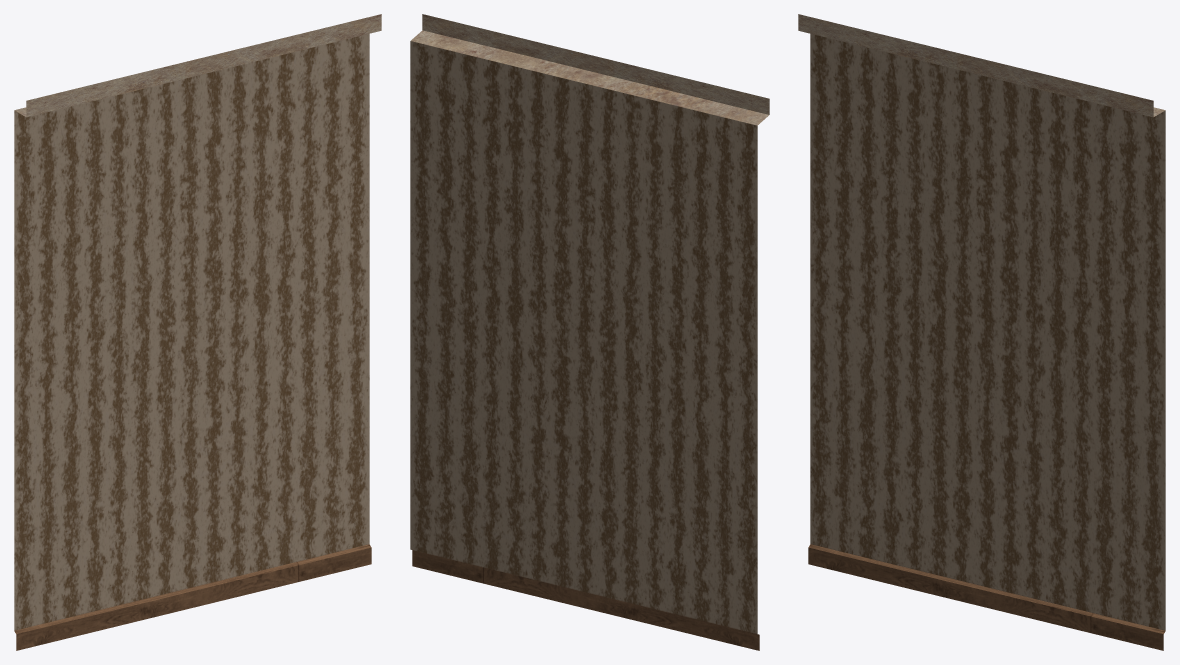
Rendered from pared_01.fbx.
The picture shows the model from 3 angles, left to right: view 1: azimuth 30°, elevation 25°; view 2: azimuth 150°, elevation 25°; view 3: azimuth 330°, elevation 25°; orthographic projection. The views are drawn at different scales.
Visible parts, largest first — view 1: pared_01; view 2: pared_01; view 3: pared_01.
Part boxes in pixels (<box>): pared_01: <box>14,14,381,650</box>; pared_01: <box>410,14,769,650</box>; pared_01: <box>798,14,1165,650</box>.
Bounding box in the file's own units: 200 × 300 × 12.
